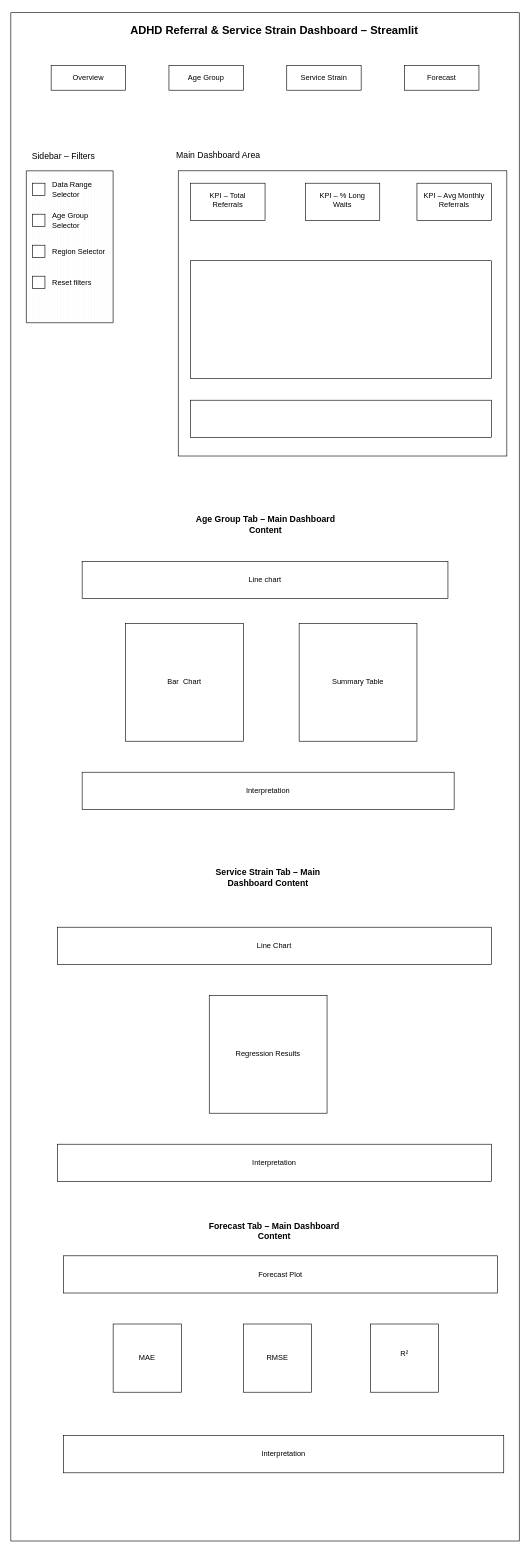
This 530x1552 diagram has some shape labels left out. The centre of each missing label's shape, as x and y in pixels:
"Line Chart – Total Referrals Over Time" belongs at point (340, 319).
"Short Insight / Interpretation Text" belongs at point (340, 418).
